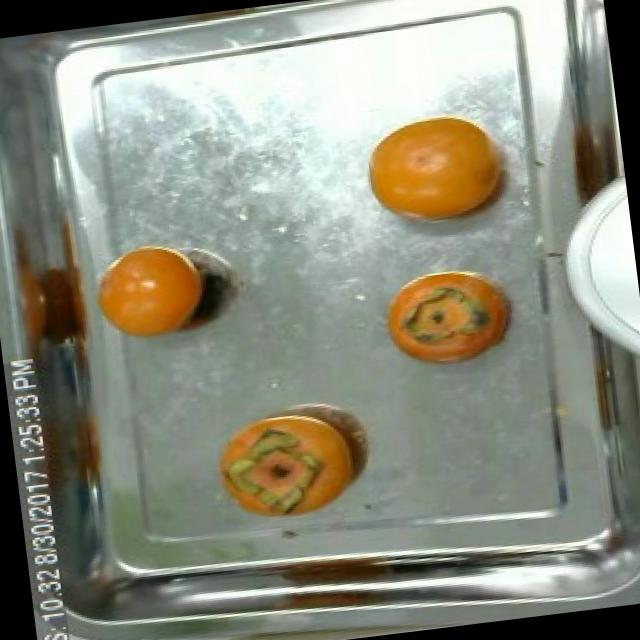Fruit: (350, 96, 530, 244), (199, 392, 383, 532), (372, 253, 534, 384), (81, 228, 228, 356), (541, 100, 629, 218)
